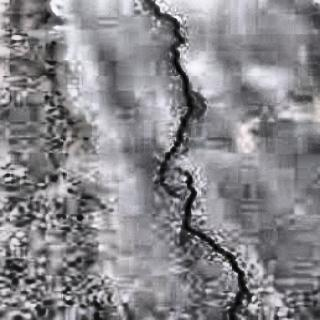crack: (145, 2, 253, 320)
